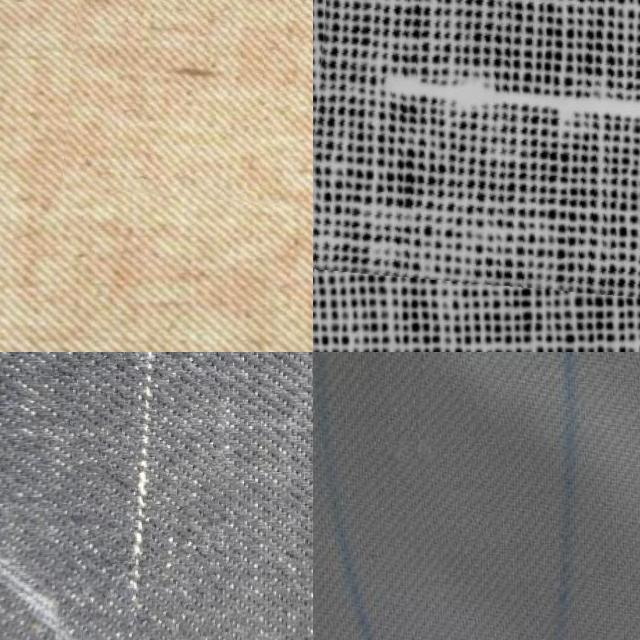stains: (313, 0, 640, 302), (66, 0, 313, 215), (67, 352, 241, 640), (362, 352, 526, 541)
